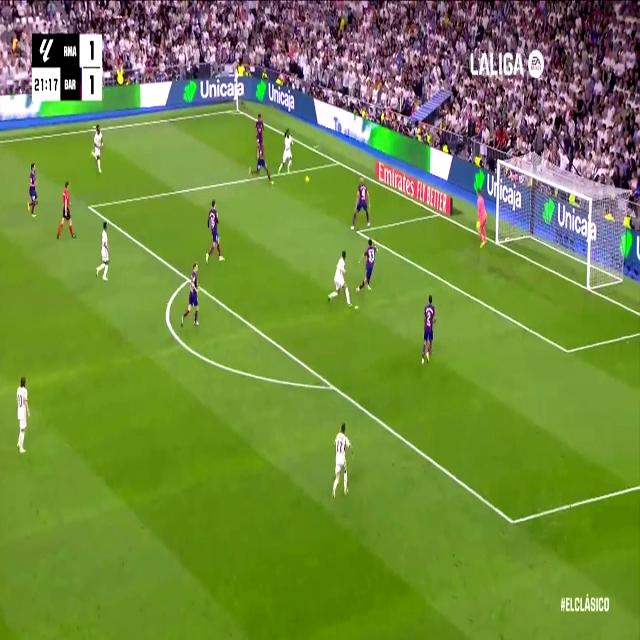bigarea_bottom_inner: (505, 502, 520, 539)
bigarea_top_inner: (86, 198, 94, 215)
bigarea_top_outter: (334, 153, 342, 170)
bottom_arc_area_intersection: (326, 372, 338, 398)
corner: (232, 103, 242, 116)
top_arc_area_intersection: (185, 269, 193, 287)
